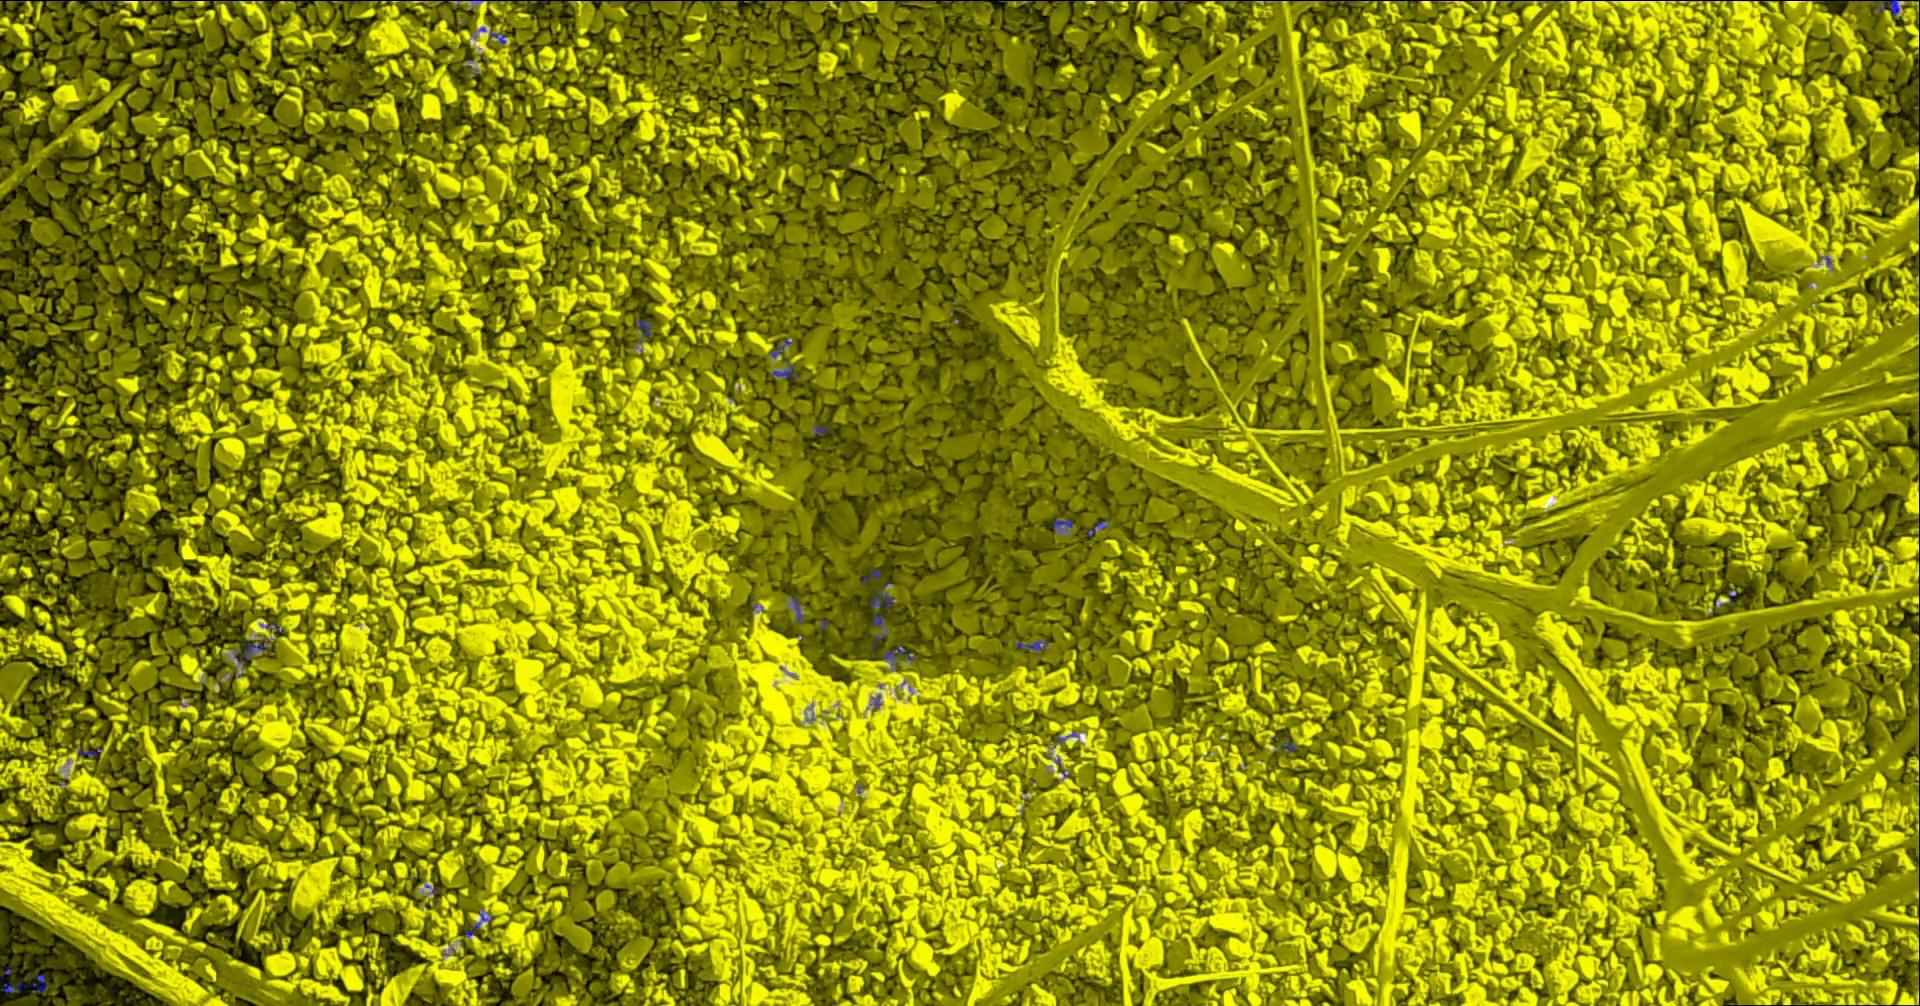ant: (869, 588, 893, 627), (234, 638, 269, 663), (883, 645, 914, 666), (770, 338, 791, 358), (635, 318, 653, 342), (1870, 0, 1898, 15), (770, 363, 797, 379), (1015, 639, 1046, 652), (1277, 737, 1298, 754), (1087, 520, 1109, 536), (790, 594, 803, 622), (30, 973, 48, 992), (1051, 518, 1073, 531), (860, 569, 880, 582), (3, 981, 23, 993), (489, 30, 505, 44), (77, 747, 100, 756), (813, 426, 829, 434)
